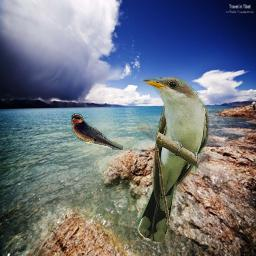Cuckoo: (137, 77, 210, 243)
Swallow: (71, 113, 123, 150)
